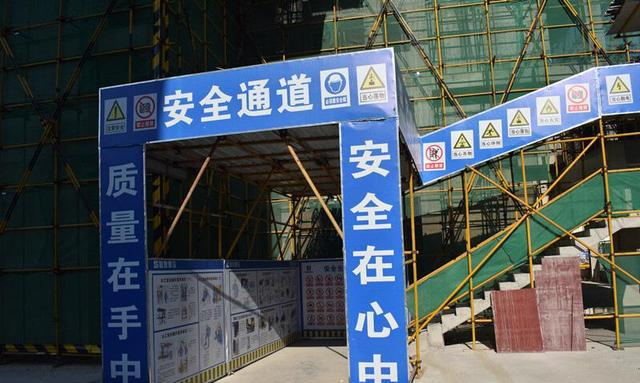slogan: (347, 118, 397, 383), (104, 144, 144, 383)
